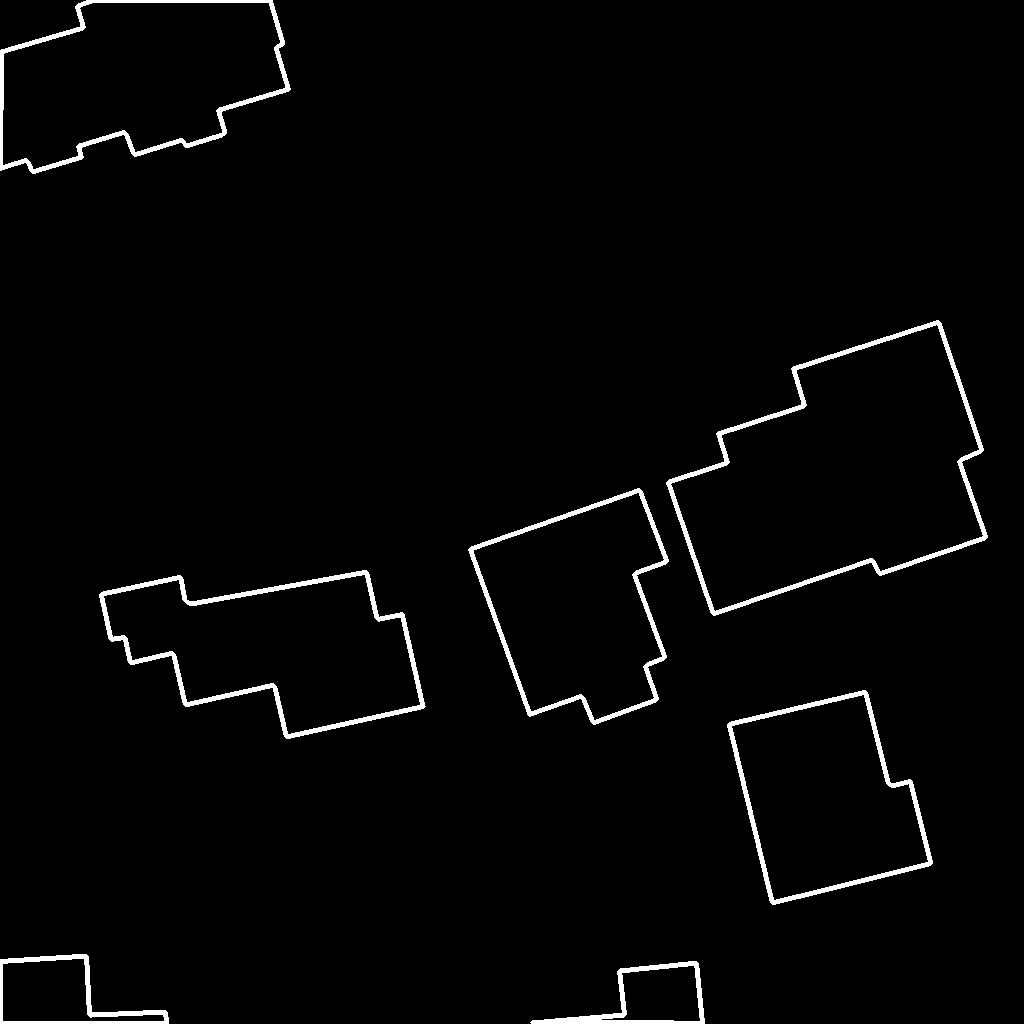building: (668, 322, 987, 615), (101, 572, 424, 738), (0, 0, 290, 173), (470, 490, 668, 724), (729, 692, 932, 904), (0, 956, 168, 1024), (527, 963, 704, 1024)
